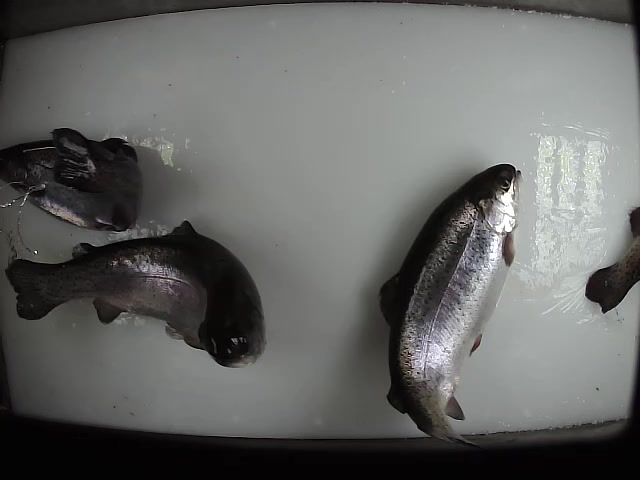fish: (376, 161, 526, 450), (4, 220, 268, 370)
